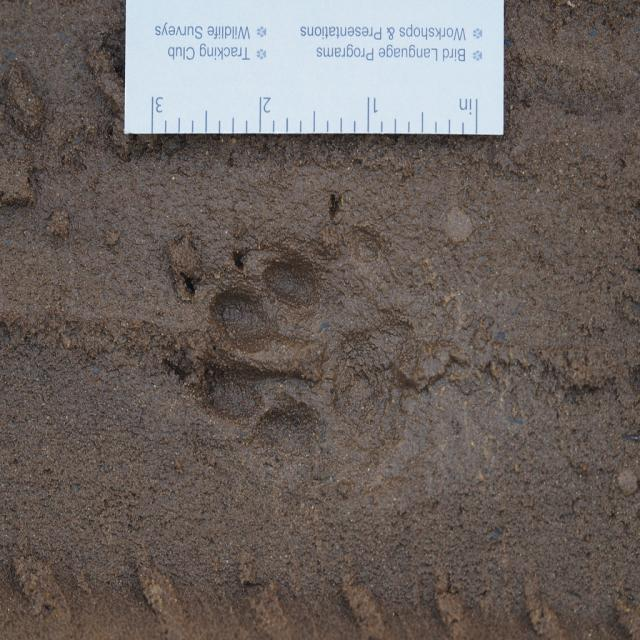mustelid: (199, 254, 426, 476)
